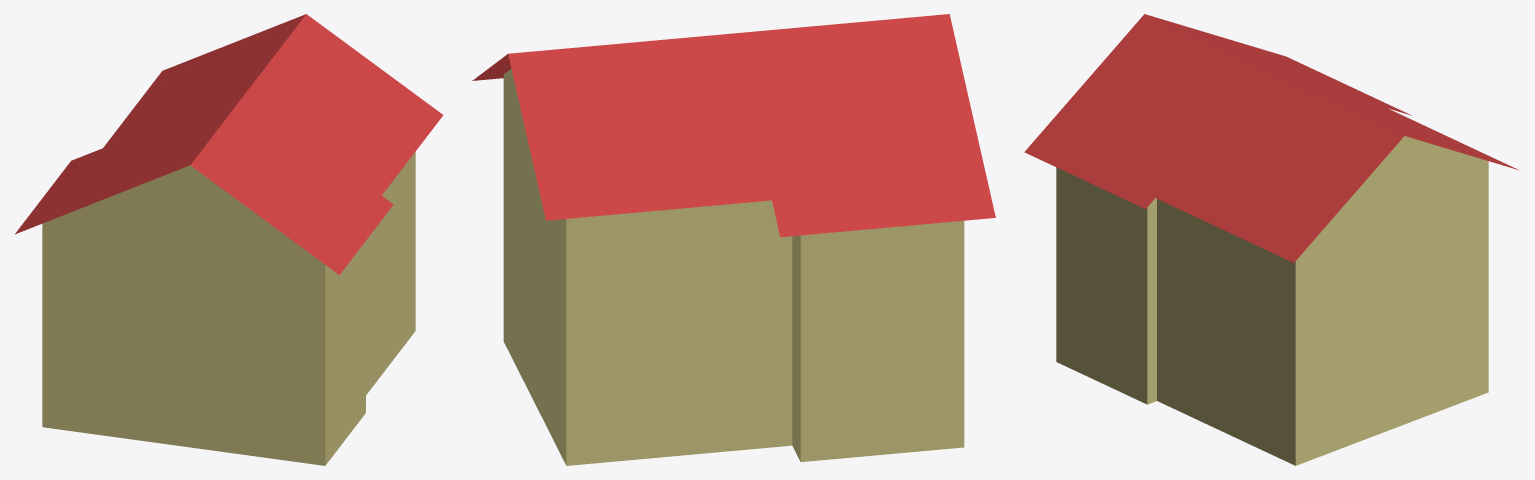
3 renders of one model, left to right at view 1: azimuth 30°, elevation 25°; view 2: azimuth 150°, elevation 25°; view 3: azimuth 270°, elevation 25°, orthographic. The views are drawn at different scales.
Visible parts, largest first — view 1: group_5, group_3, group_4; view 2: group_5, group_3, group_4; view 3: group_5, group_3, group_4.
Part boxes in pixels (bbox=[...]): group_5: bbox=[42, 152, 415, 465]; group_3: bbox=[15, 14, 443, 274]; group_4: bbox=[15, 14, 305, 234]; group_5: bbox=[503, 68, 964, 465]; group_3: bbox=[529, 14, 995, 237]; group_4: bbox=[472, 15, 995, 236]; group_5: bbox=[1056, 136, 1488, 465]; group_3: bbox=[1024, 14, 1486, 262]; group_4: bbox=[1103, 14, 1519, 170].
Bounding box in the file's own units: 16.94 × 16.3 × 10.92.
